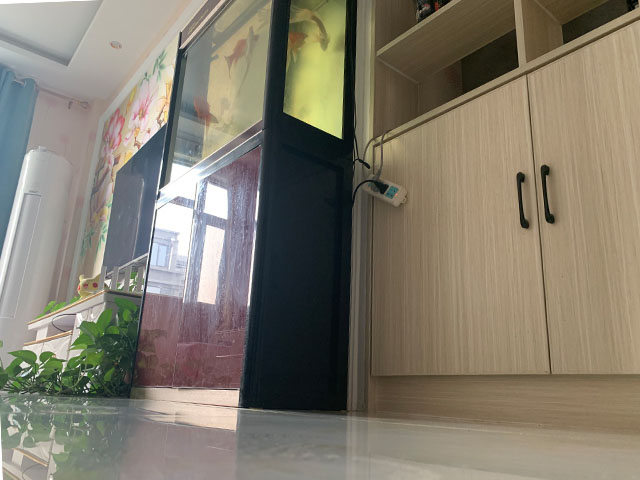cabinet: (358, 7, 640, 419), (130, 113, 349, 417), (20, 288, 143, 377)
wire: (344, 120, 410, 215)
